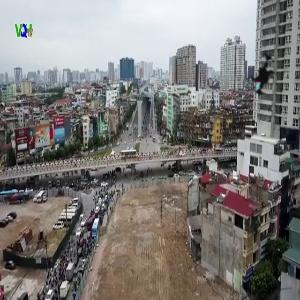drone: (226, 39, 295, 108)
